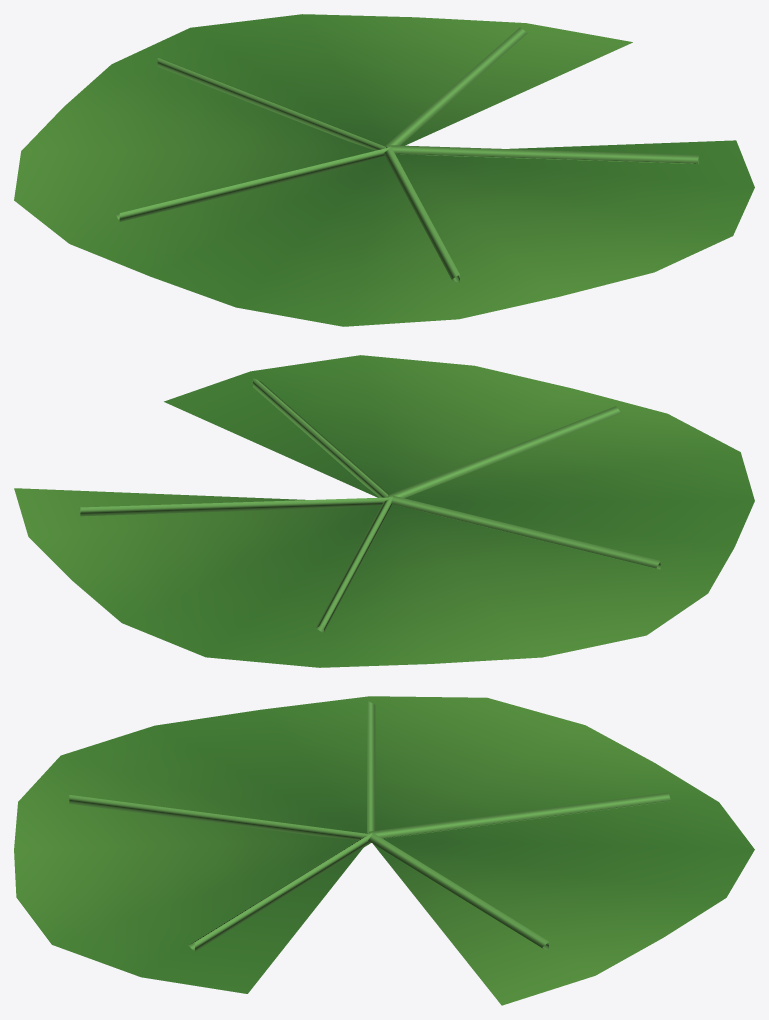
Rendered from lilypad.glb.
3 renders of one model, top to bottom at view 1: azimuth 30°, elevation 25°; view 2: azimuth 150°, elevation 25°; view 3: azimuth 270°, elevation 25°, orthographic.
Visible parts, largest first — view 1: lilypad_main; view 2: lilypad_main; view 3: lilypad_main.
Boxes of the visible parts, x1,y1,x2,y2 form: lilypad_main: (14, 14, 754, 326); lilypad_main: (14, 355, 754, 667); lilypad_main: (14, 696, 754, 1005).
Size of the model in its own units: 0.5138 by 0.0155 by 0.5199.
